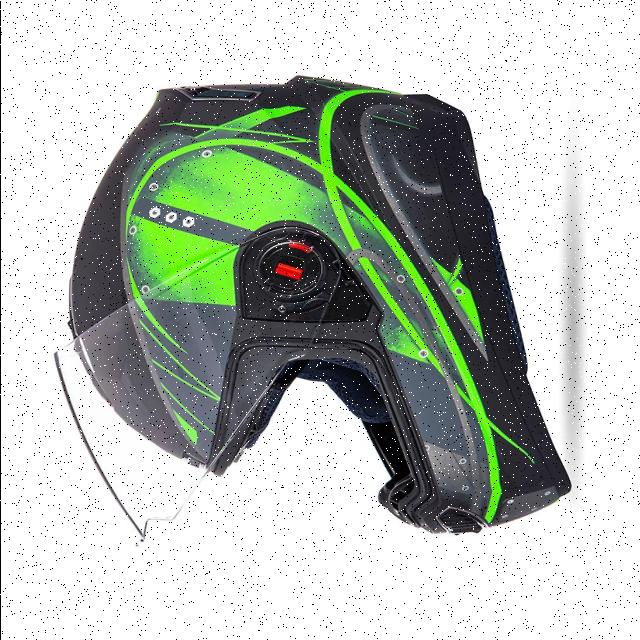Helmet: (54, 78, 569, 535)
